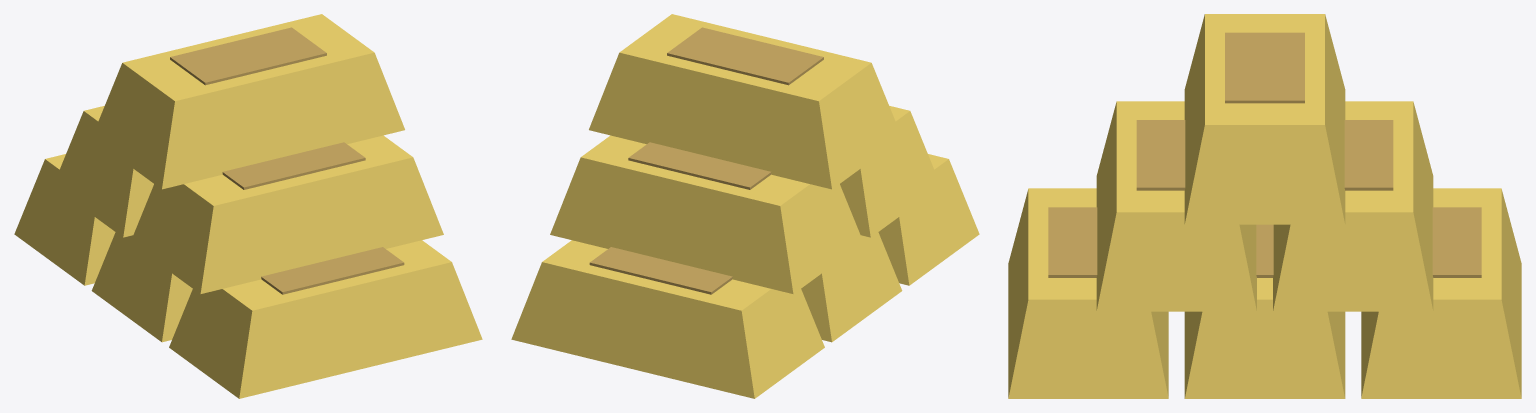
File: Lingotes.fbx
The picture shows the model from 3 angles, left to right: view 1: azimuth 30°, elevation 25°; view 2: azimuth 150°, elevation 25°; view 3: azimuth 270°, elevation 25°; orthographic projection. The views are drawn at different scales.
Visible parts, largest first — view 1: Malla_Lingotes; view 2: Malla_Lingotes; view 3: Malla_Lingotes.
Part boxes in pixels (x1=…): Malla_Lingotes: x1=14, y1=14, x2=482, y2=398; Malla_Lingotes: x1=511, y1=14, x2=979, y2=398; Malla_Lingotes: x1=1008, y1=14, x2=1521, y2=398.
Bounding box in the file's own units: 0.2 × 0.182 × 0.32.
